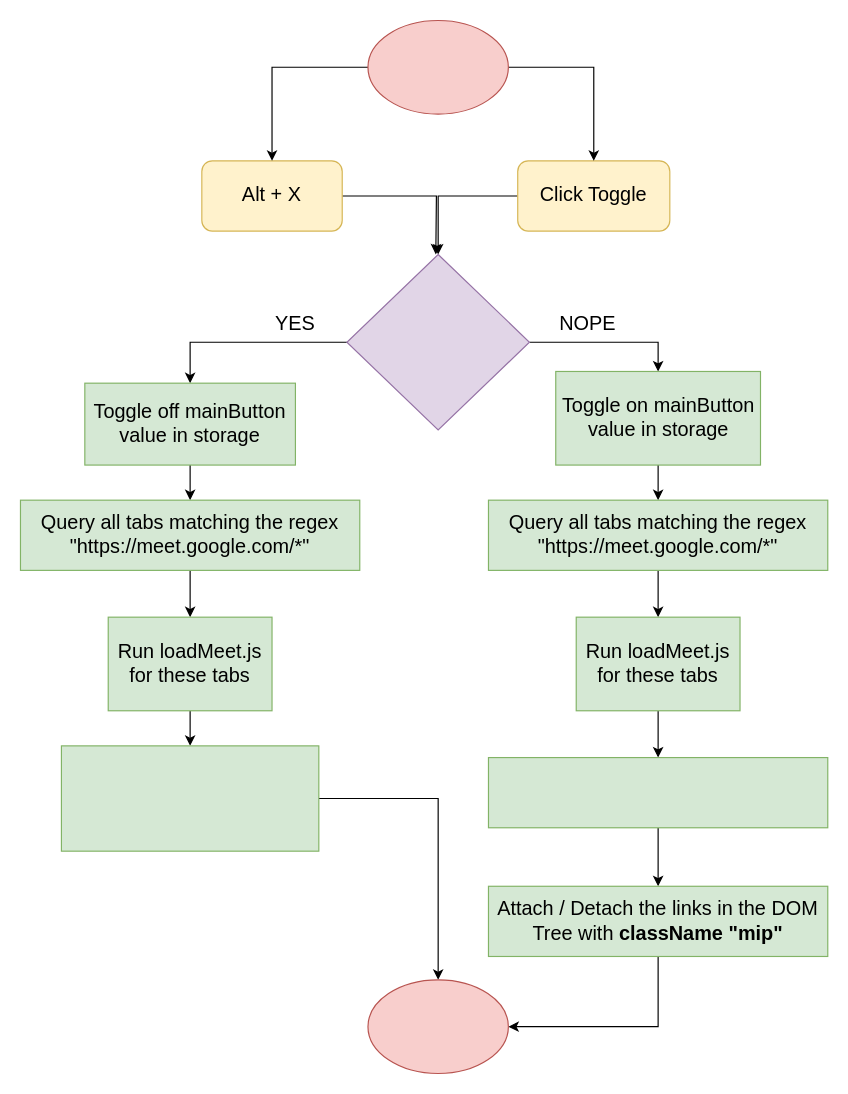
This 848x1094 diagram has some shape labels left out. Here are the shapes that lost their labels. From the top down, the centre of each, then its label:
pixel 437 66: START
pixel 437 341: Is Extension on?
pixel 189 798: Remove all the links with className "mip"
pixel 657 792: Check all the valid ids from the local storage
pixel 437 1026: END
